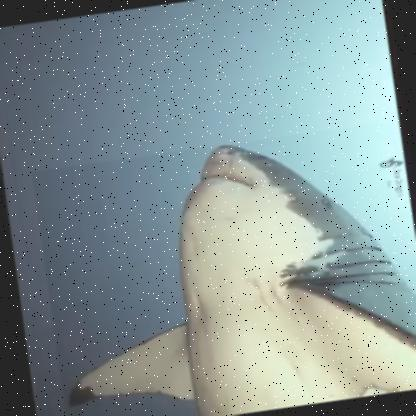white-shark: (29, 120, 415, 415)
